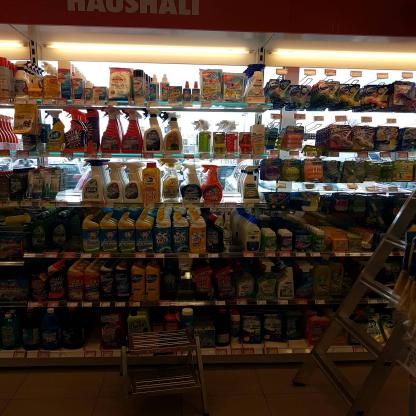Void: (60, 166, 83, 200), (168, 266, 186, 300), (224, 162, 237, 203), (182, 118, 196, 150), (201, 311, 223, 325)
